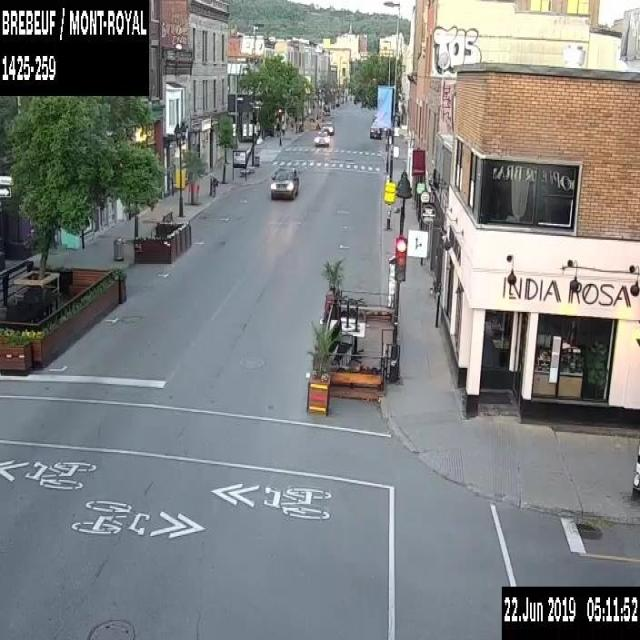vehicle: (269, 165, 298, 199), (368, 115, 386, 138), (312, 128, 329, 146), (321, 118, 333, 134)
